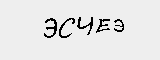Е: (98, 18, 111, 34)
С: (61, 17, 73, 39)
Ч: (78, 15, 93, 39)
Э: (39, 15, 56, 40), (112, 18, 125, 32)
